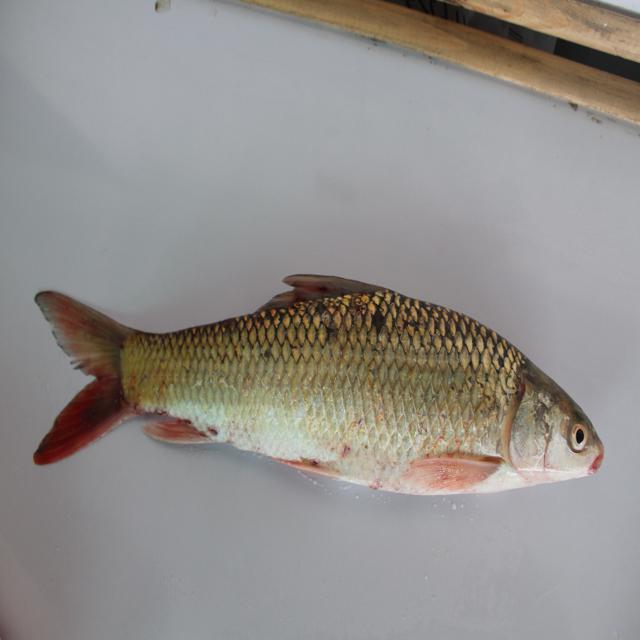Mori: (22, 255, 612, 505)
